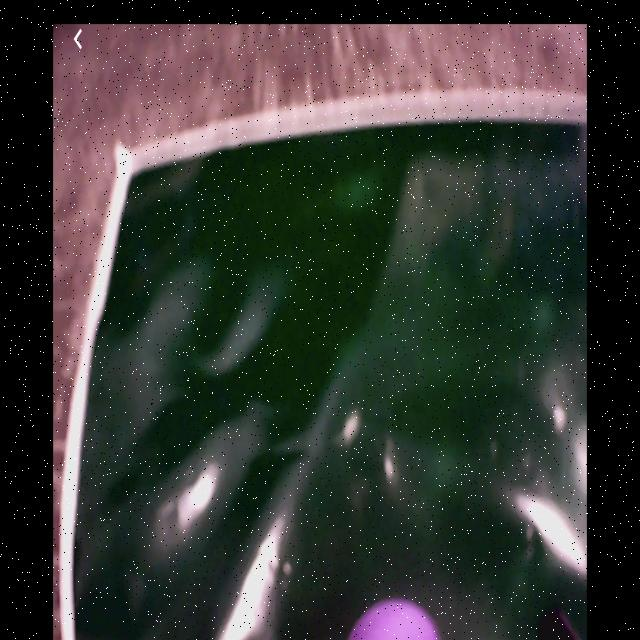ball: (351, 599, 439, 640)
